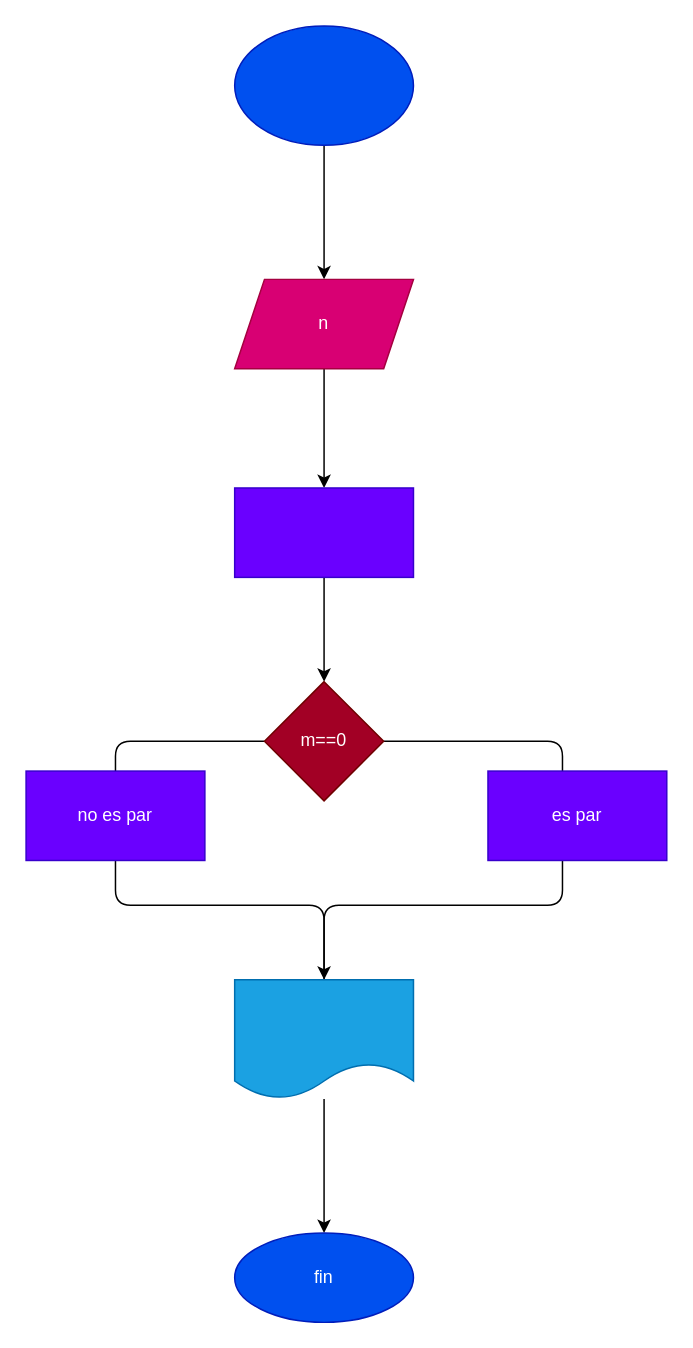
This 693x1348 diagram has some shape labels left out. Here are the shapes that lost their labels. From the top down, the box of each, then its label:
(233, 25, 413, 145): inico
(233, 486, 413, 577): c=n%10 m=c%2
(233, 978, 413, 1099): es par, or, no es par
